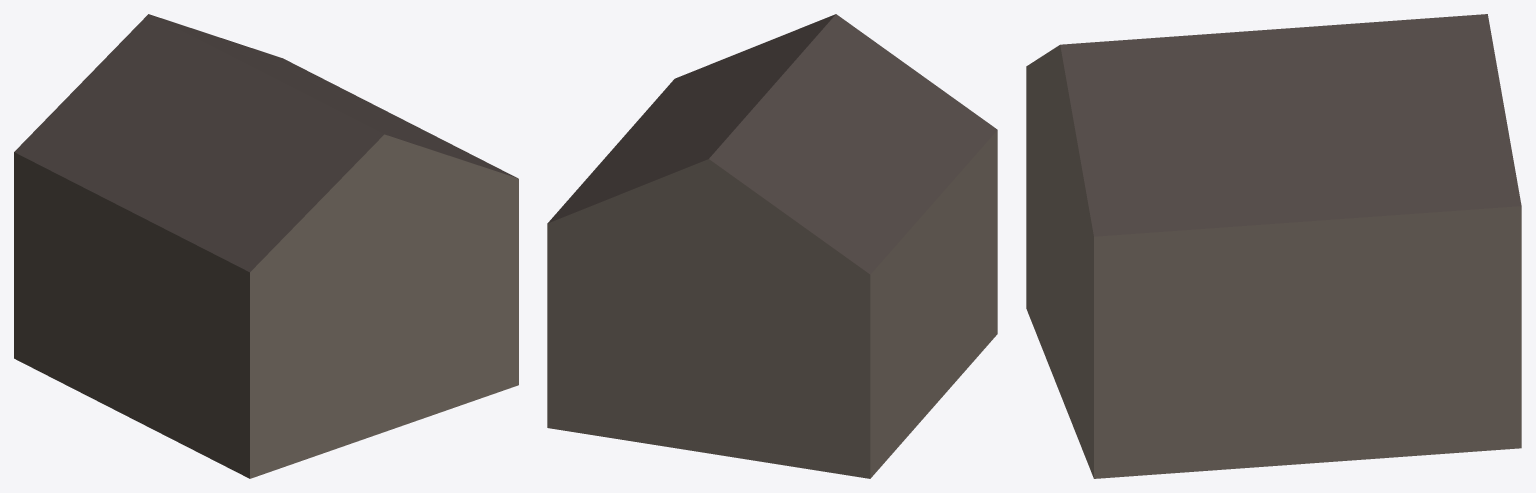
3 views of the same model, side by side, from view 1: azimuth 30°, elevation 25°; view 2: azimuth 150°, elevation 25°; view 3: azimuth 270°, elevation 25° (orthographic). The views are drawn at different scales.
Visible parts, largest first — view 1: HP-w1365659893; view 2: HP-w1365659893; view 3: HP-w1365659893.
Boxes of the visible parts, x1,y1,x2,y2 form: HP-w1365659893: [14, 14, 518, 478]; HP-w1365659893: [547, 14, 997, 478]; HP-w1365659893: [1026, 14, 1521, 478].
Size of the model in its own units: 10.68 by 8.65 by 11.12.
